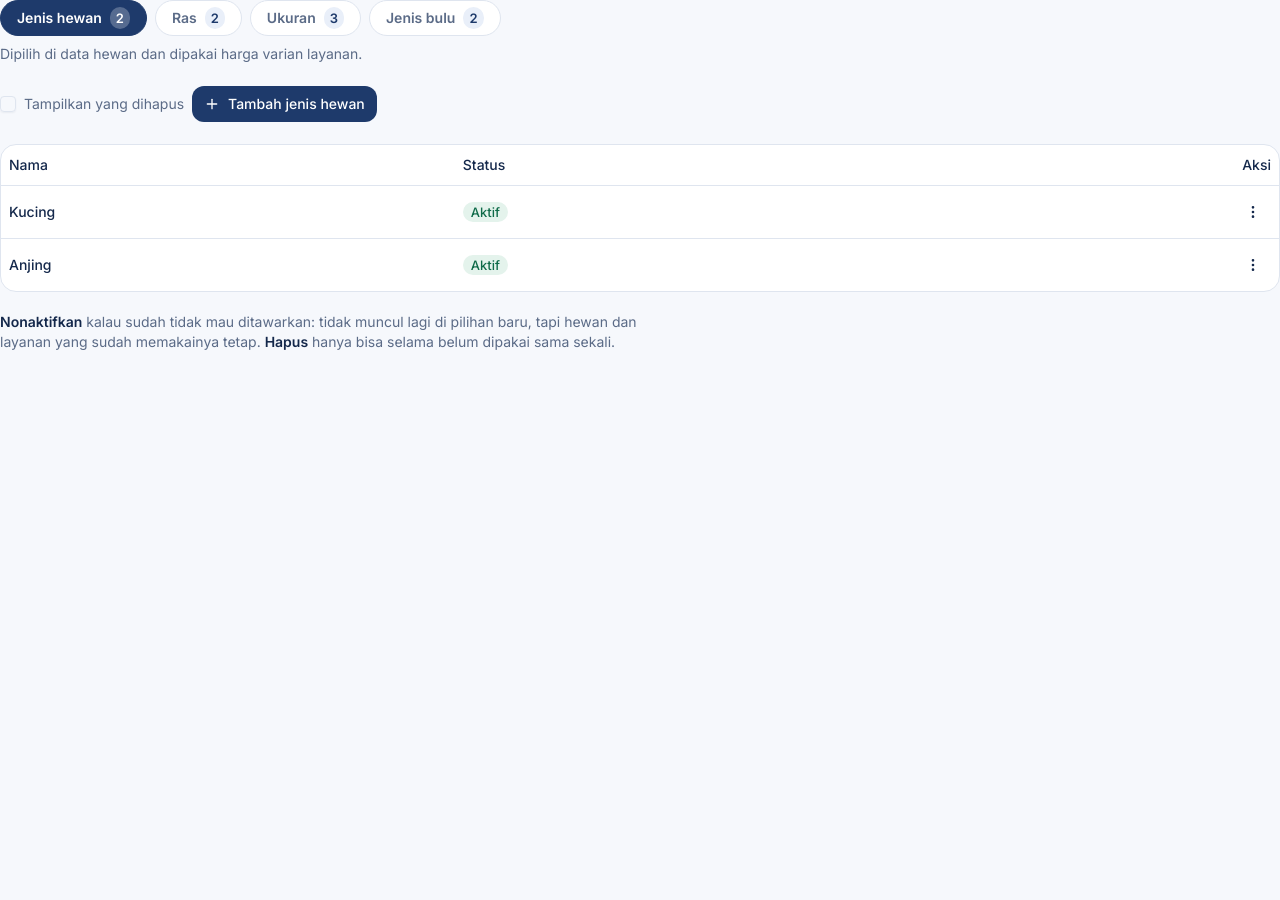
PetOptionsScreen › blames the name only when the server says the name is the clash
Expected: the text "Kucing" is shown, [1,185,455,238]
Click the button "Ras 2" at (198, 18), box [155,0,242,36]
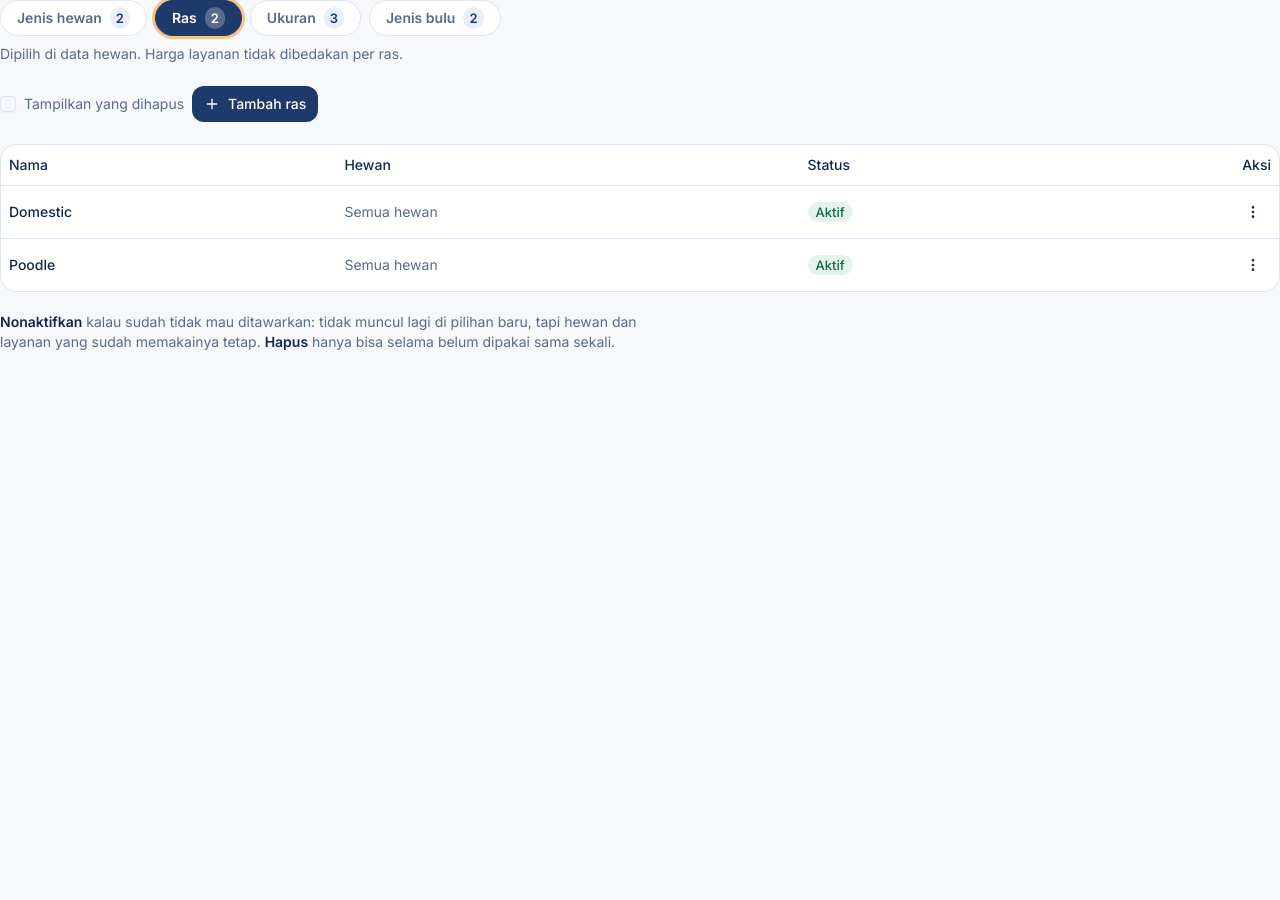
Click the button "Tambah ras" at (255, 104), box [192,86,318,122]
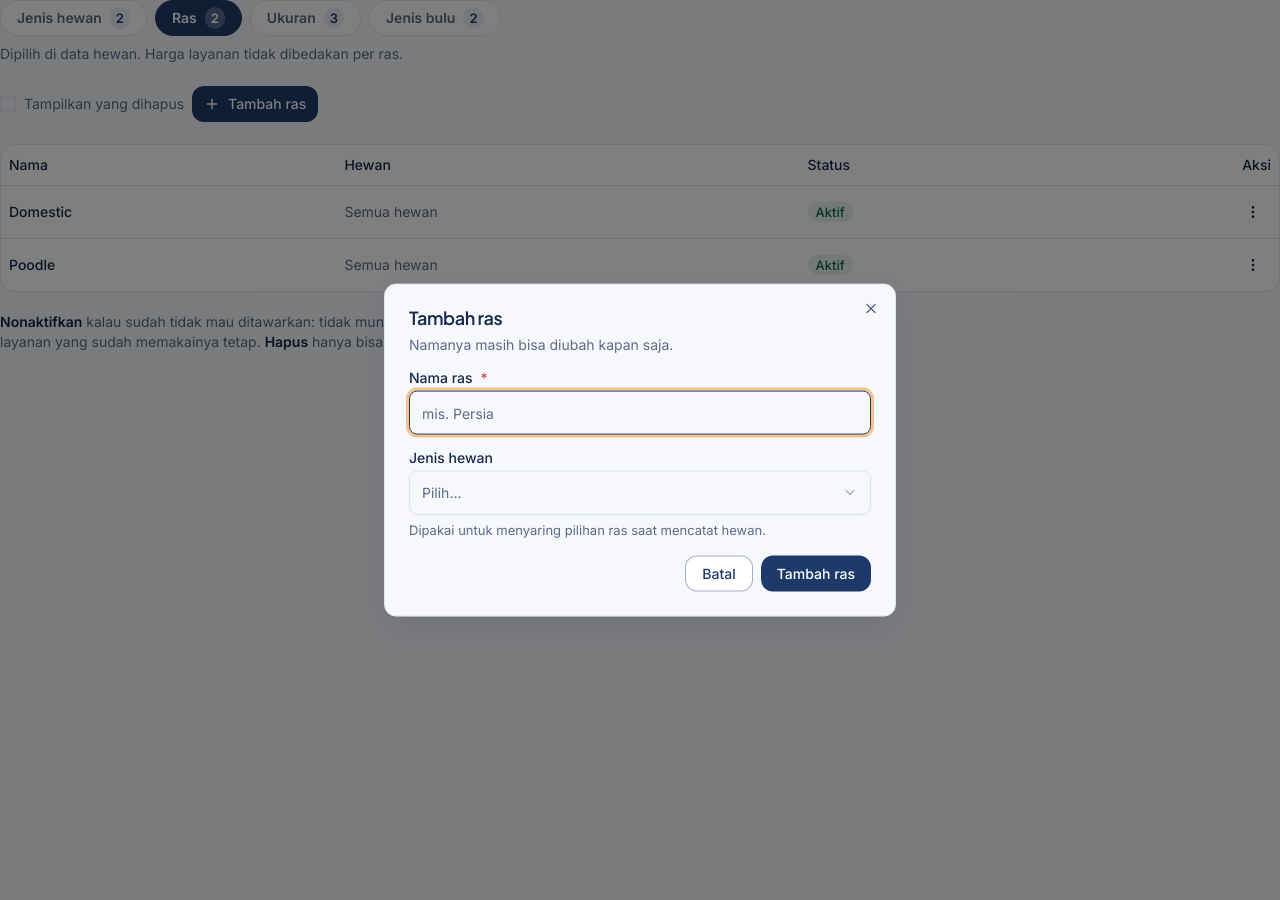
Type "Persia" into the field labelled "Nama ras *" at (640, 413), box [409,391,871,435]
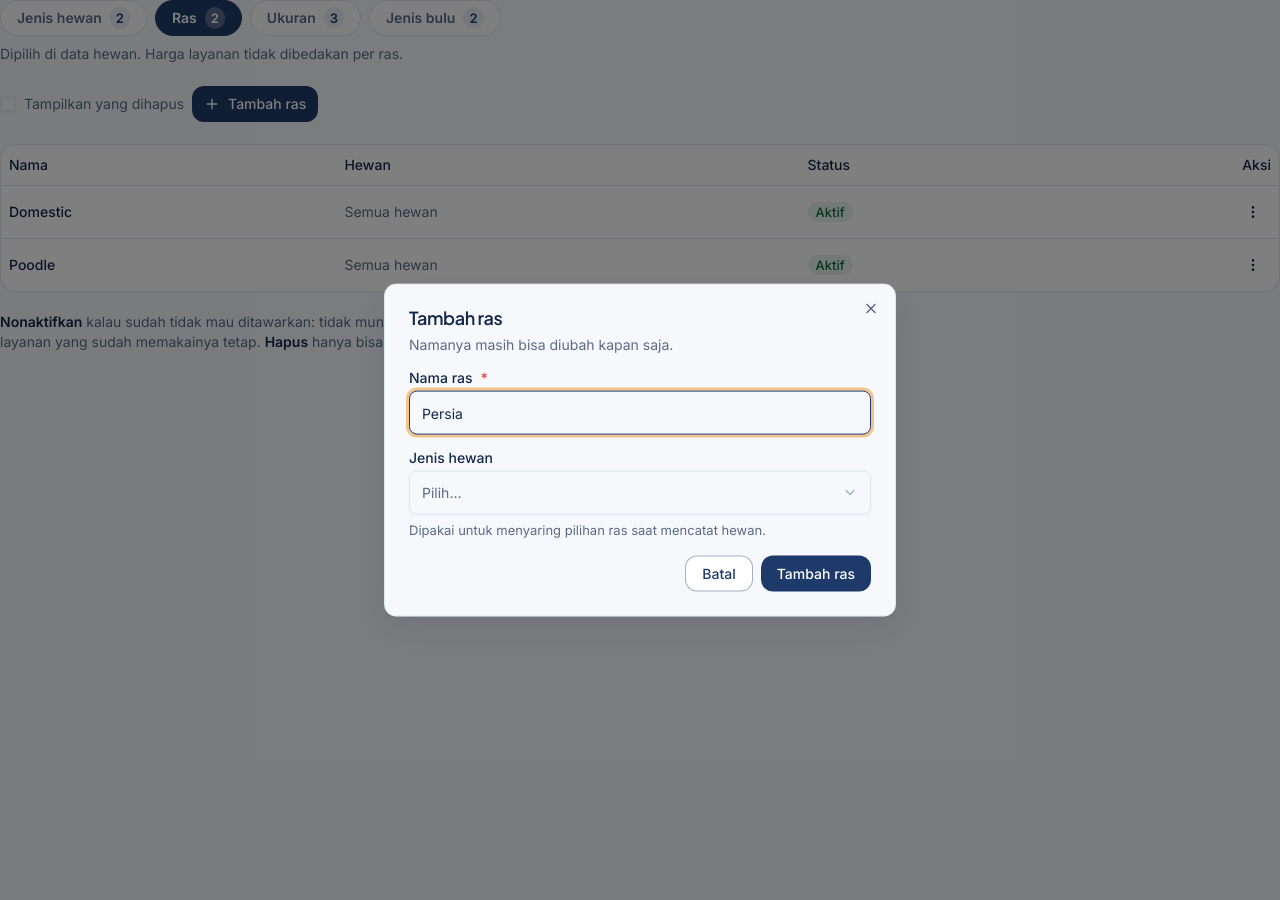
Click the dropdown named "Jenis hewan" at (442, 492), box [409,471,871,515]
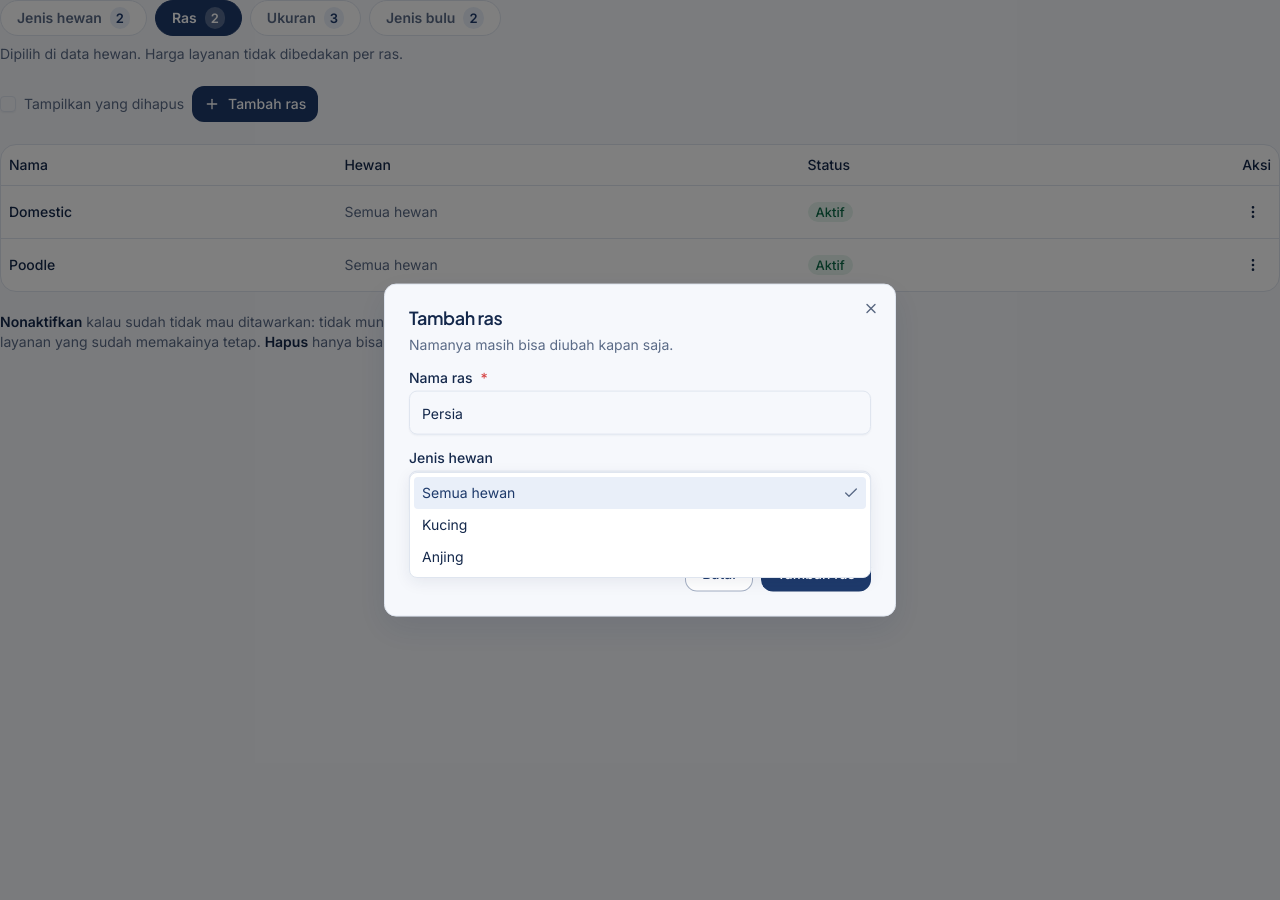
Click the option "Kucing" at (445, 524), box [422,516,468,533]
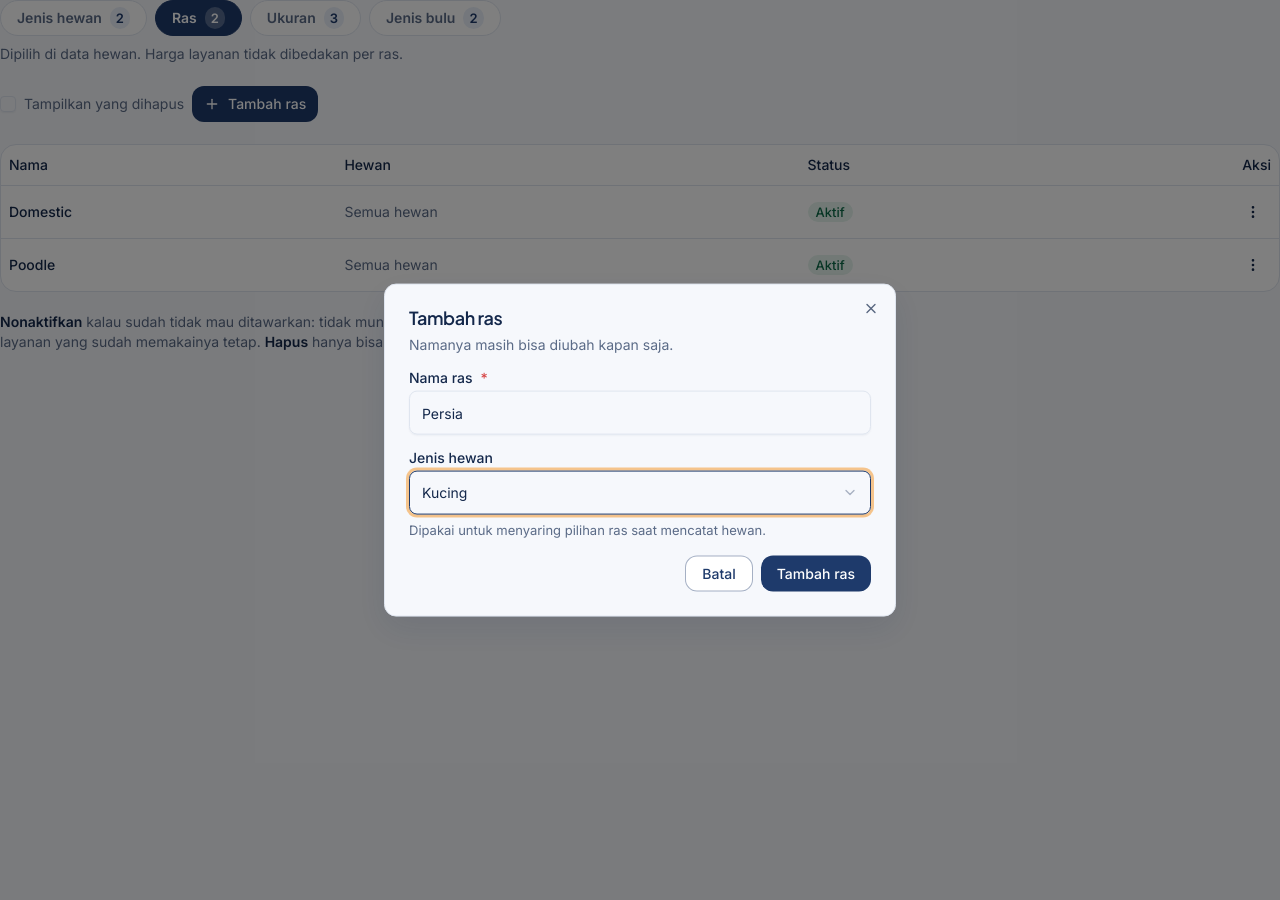
Click the button "Tambah ras" at (816, 573), box [761,555,871,591]
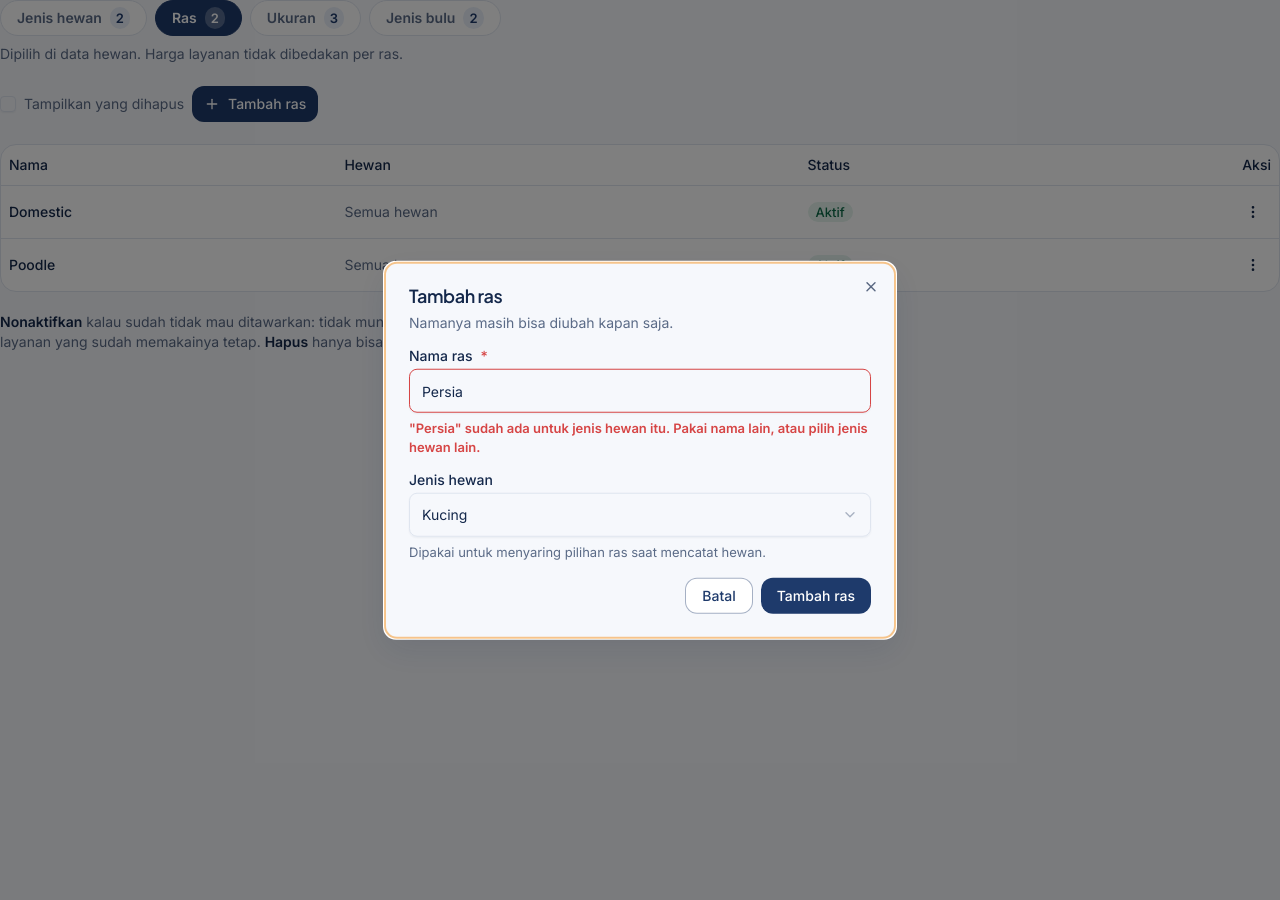
Now the text "sudah ada untuk jenis hewan itu" is shown, box [409,420,868,454]
